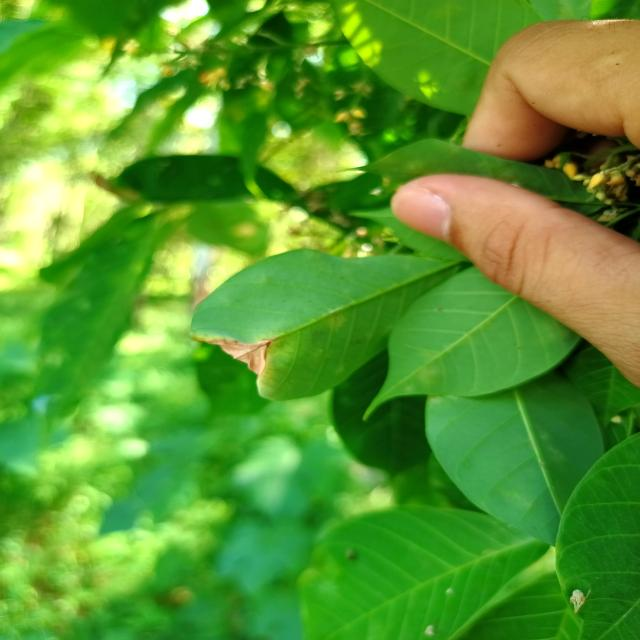Leaf-Blight: (207, 337, 273, 376)
